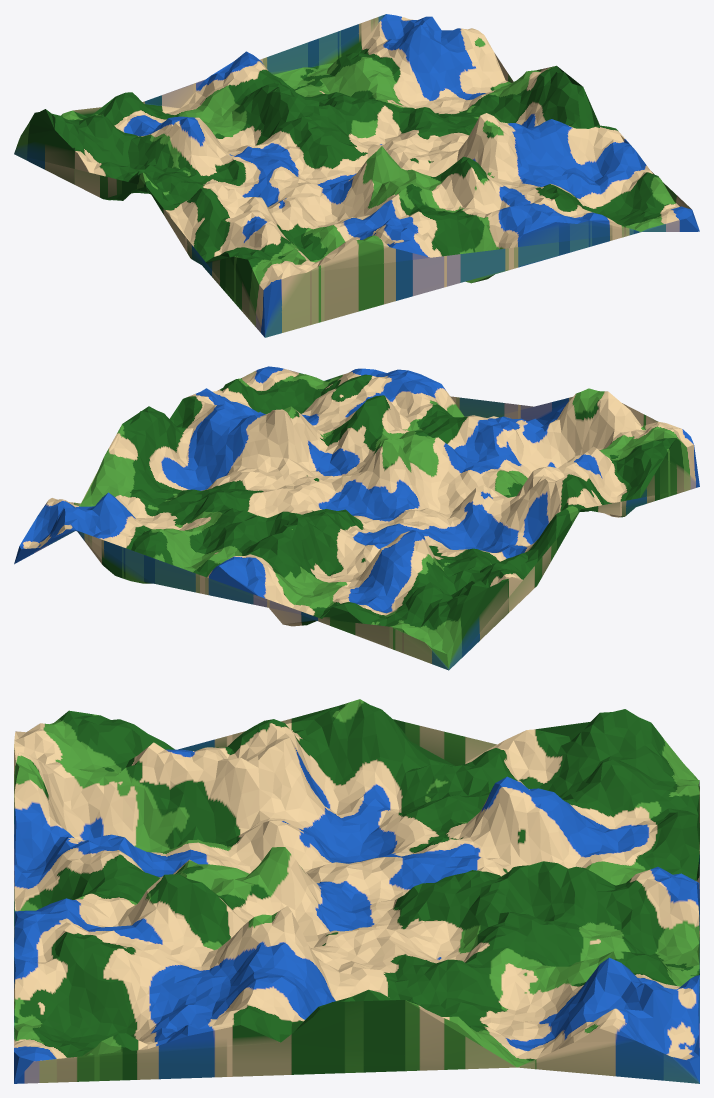
File: flat.obj
3 views of the same model, one above another, from view 1: azimuth 30°, elevation 25°; view 2: azimuth 150°, elevation 25°; view 3: azimuth 270°, elevation 25° (orthographic). The views are drawn at different scales.
Size of the model in its own units: 256 by 42.02 by 256.
Materials: 1 (1 with a texture image).
